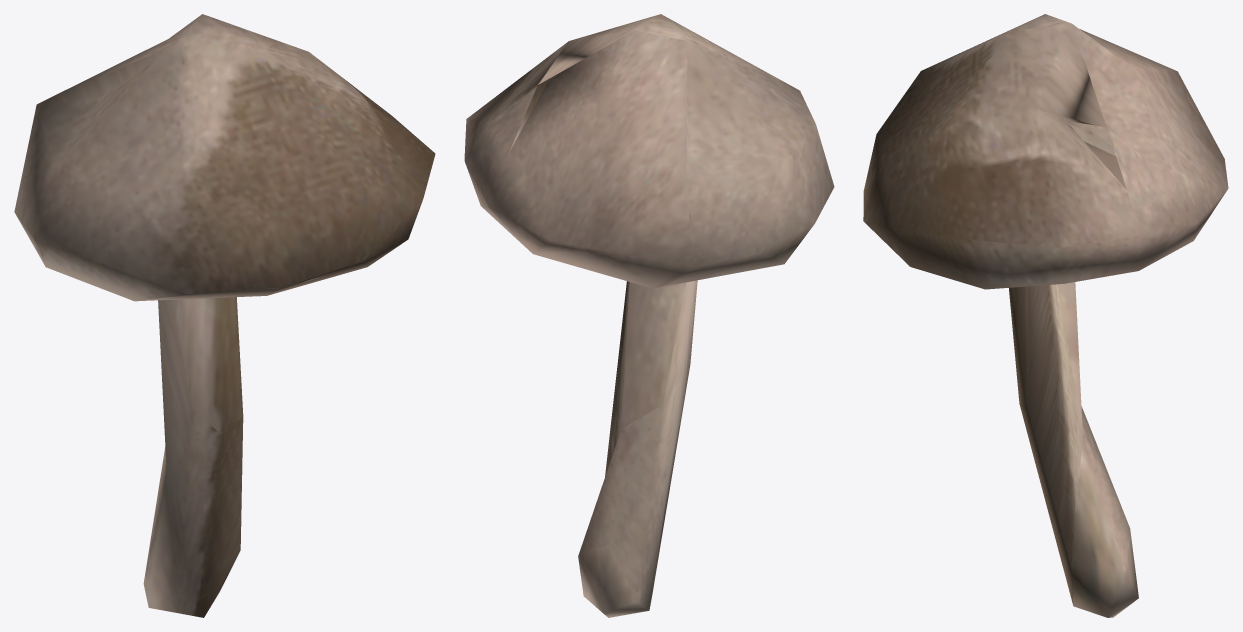
The model's file is fungus-pale-a.gltf.
3 views of the same model, side by side, from view 1: azimuth 30°, elevation 25°; view 2: azimuth 150°, elevation 25°; view 3: azimuth 270°, elevation 25° (orthographic). The views are drawn at different scales.
Visible parts, largest first — view 1: fungus-pale-a; view 2: fungus-pale-a; view 3: fungus-pale-a.
Part boxes in pixels (box(x1,y1,x2,y2)): fungus-pale-a: box(14, 14, 435, 617); fungus-pale-a: box(464, 14, 834, 617); fungus-pale-a: box(863, 14, 1228, 617).
Size of the model in its own units: 0.1457 by 0.2353 by 0.1317.
1 material, 1 textured.
